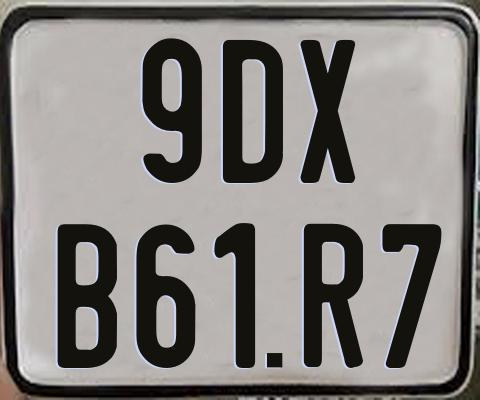1: (214, 222, 256, 372)
6: (134, 222, 197, 370)
7: (382, 223, 445, 367)
9: (141, 38, 202, 185)
B: (55, 223, 115, 370)
D: (221, 39, 287, 183)
R: (303, 222, 368, 368)
X: (299, 37, 357, 185)
